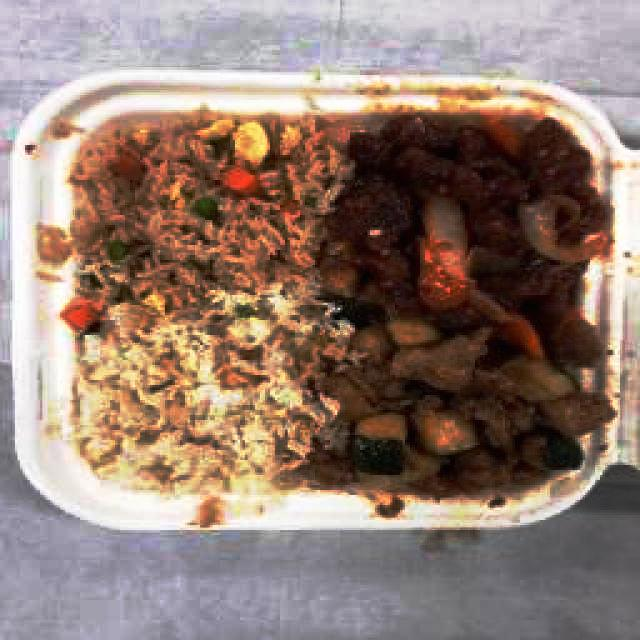Beijing Beef: (340, 118, 586, 337)
Fried Rice: (86, 125, 273, 297)
Kung Pao Chicken: (345, 304, 598, 485)
rice: (85, 313, 304, 480)
